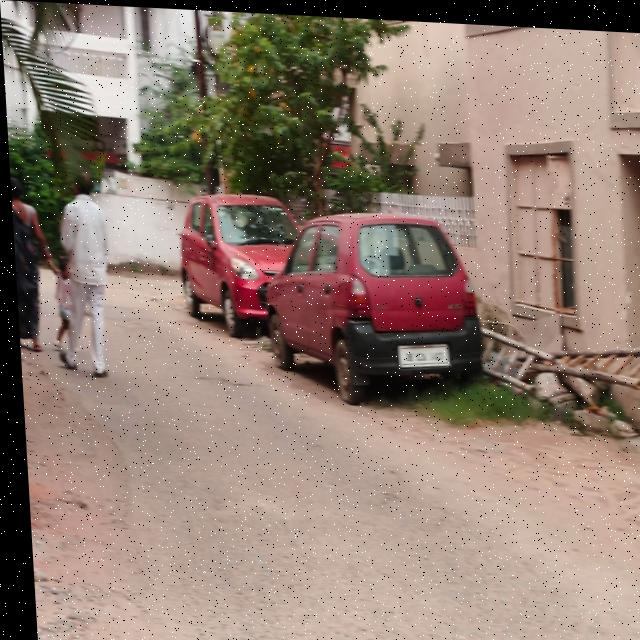car: (254, 196, 487, 402), (167, 180, 306, 346)
